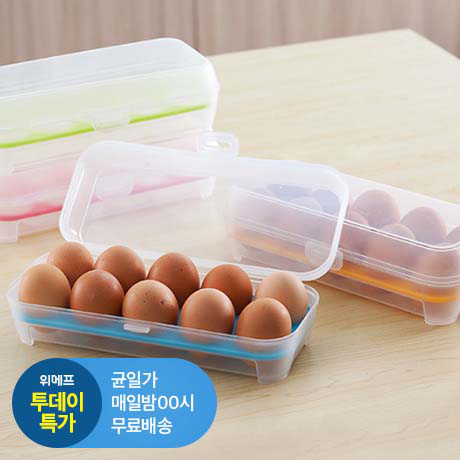egg: (17, 240, 308, 348), (257, 175, 460, 272)
